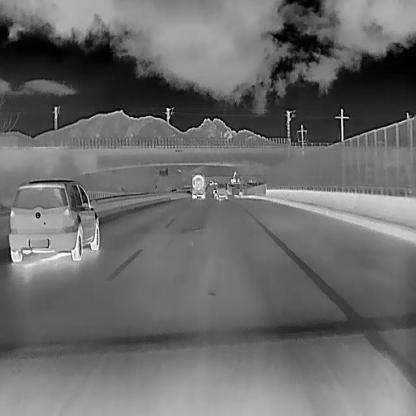car: (8, 178, 99, 261), (191, 172, 206, 199), (216, 182, 227, 200), (213, 190, 219, 198), (211, 187, 217, 192), (170, 188, 176, 193), (186, 189, 191, 195), (208, 180, 213, 185)
